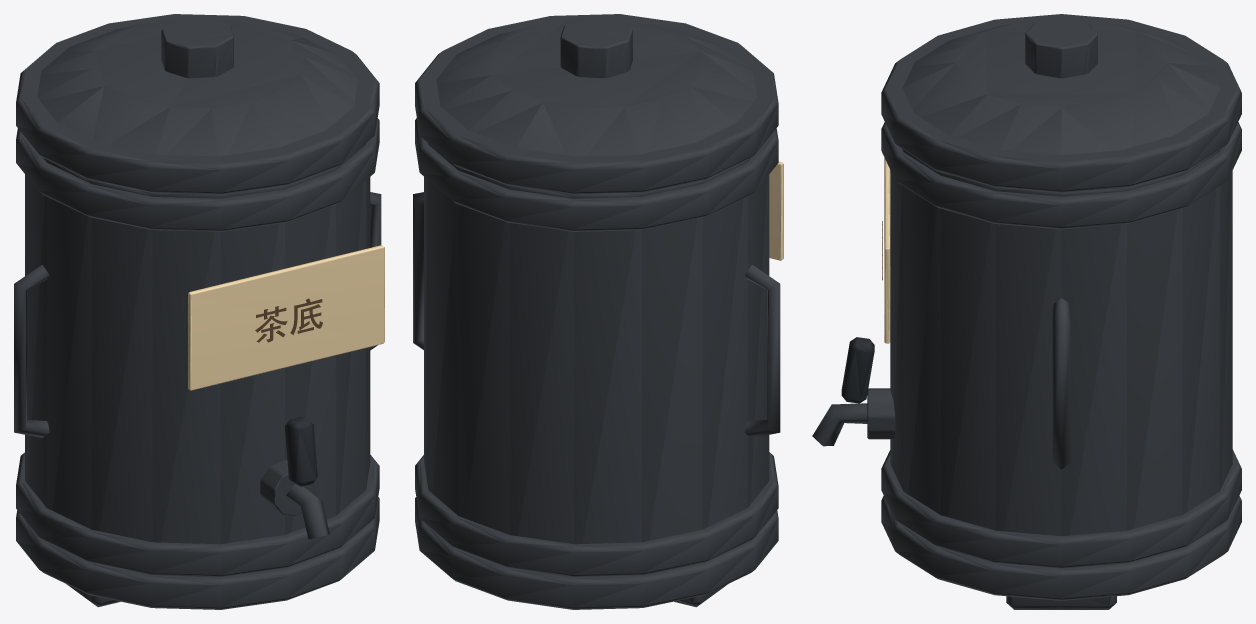
Rendered from tea_dispenser_03.fbx.
The picture shows the model from 3 angles, left to right: view 1: azimuth 30°, elevation 25°; view 2: azimuth 150°, elevation 25°; view 3: azimuth 270°, elevation 25°; orthographic projection.
Parts seen in each view (by area): view 1: tea_dispenser_03; view 2: tea_dispenser_03; view 3: tea_dispenser_03.
Part boxes in pixels (left/top/right/bottom): tea_dispenser_03: left=14, top=14, right=384, bottom=609; tea_dispenser_03: left=413, top=14, right=783, bottom=609; tea_dispenser_03: left=812, top=14, right=1241, bottom=609.
Bounding box in the file's own units: 41.38 × 56.8 × 42.67.
